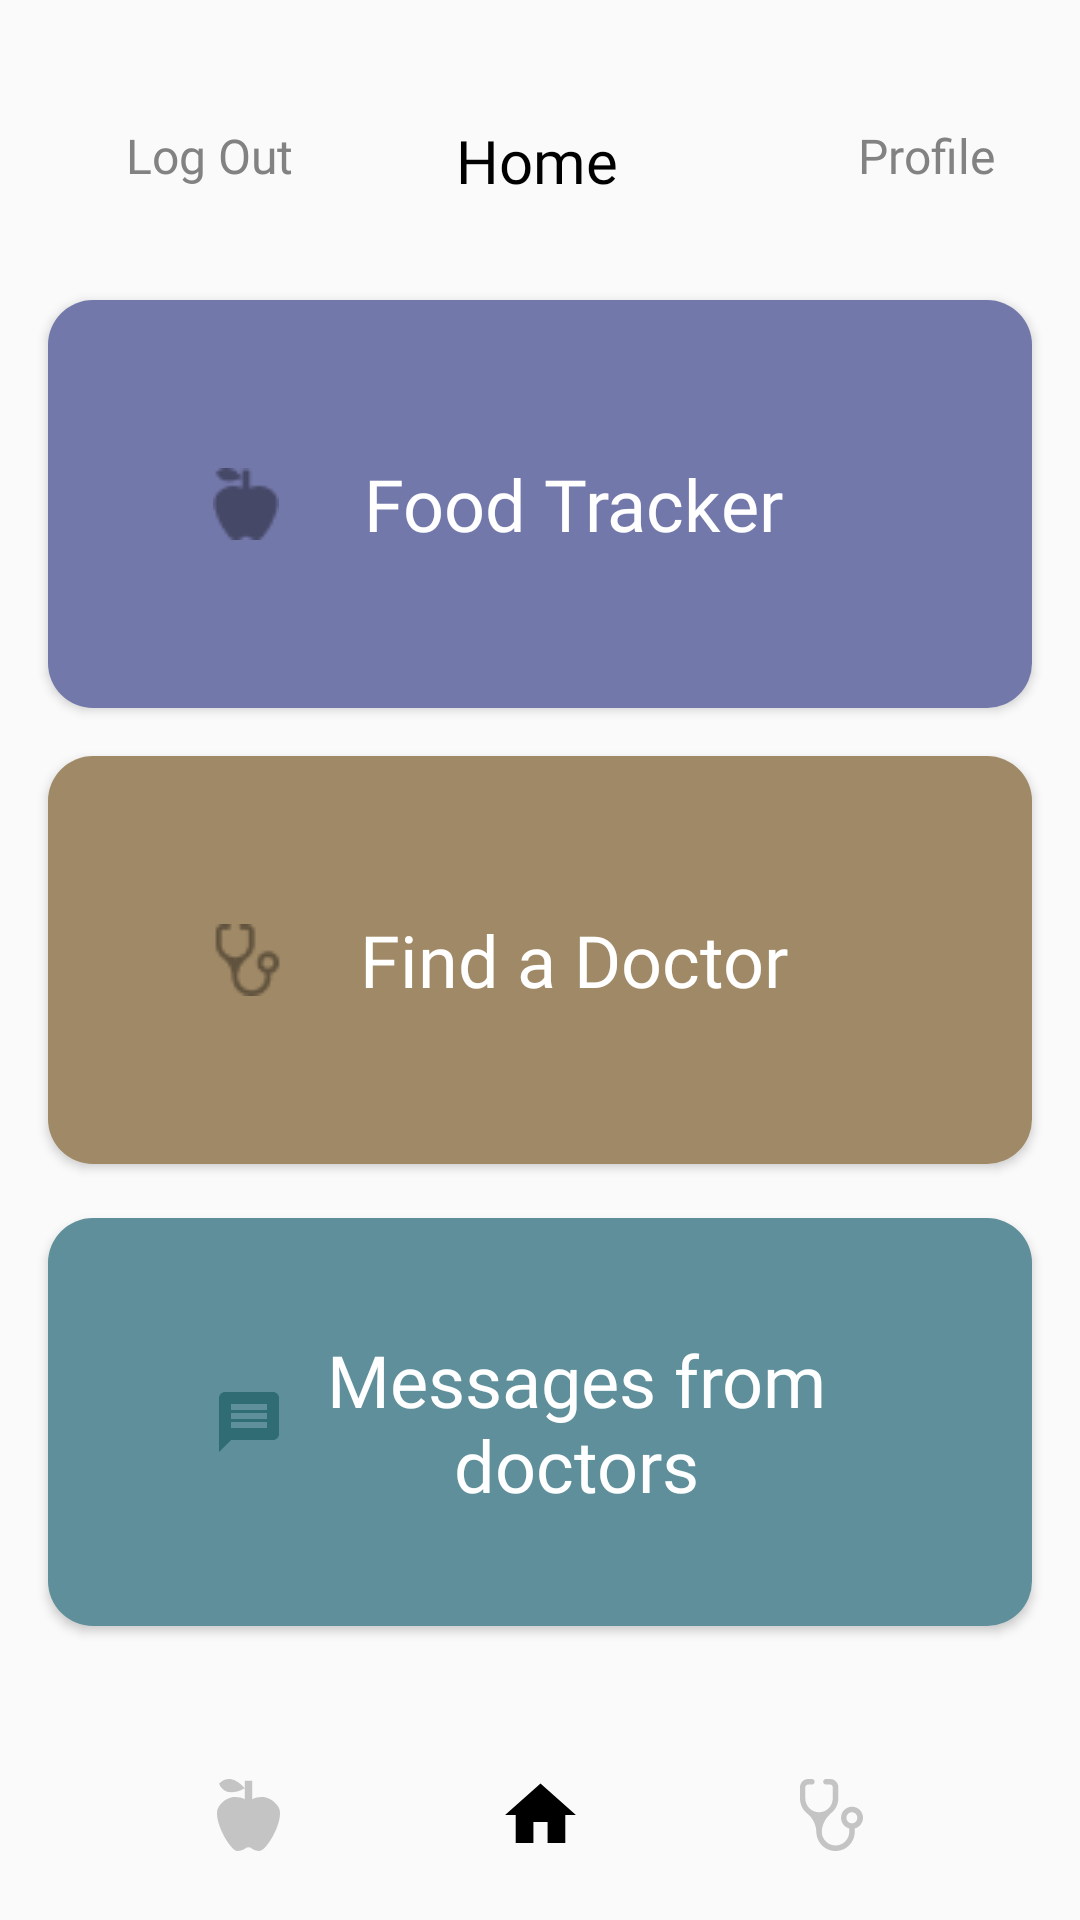

Where icons sit on this 1080px×1920px app screen, as rect(x1, y1, x2, y2):
Home: rect(505, 1783, 576, 1843)
